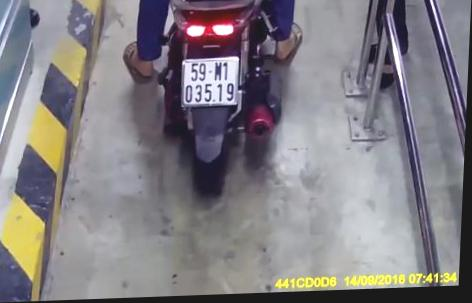License_Plate: (174, 54, 247, 113)
